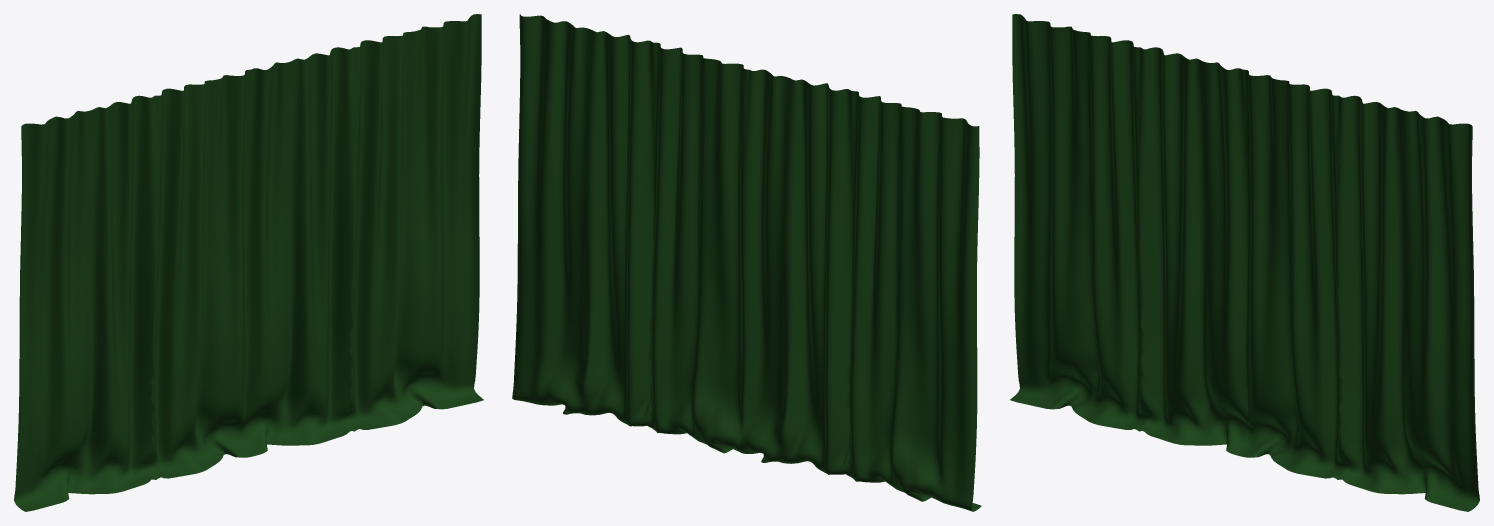
Rendered from Zaves_230x180_cm.fbx.
3 renders of one model, left to right at view 1: azimuth 30°, elevation 25°; view 2: azimuth 150°, elevation 25°; view 3: azimuth 330°, elevation 25°, orthographic.
Visible parts, largest first — view 1: zaves; view 2: zaves; view 3: zaves.
Part boxes in pixels (x1=…): zaves: x1=14, y1=14, x2=483, y2=511; zaves: x1=512, y1=14, x2=981, y2=511; zaves: x1=1010, y1=14, x2=1479, y2=511.
Bounding box in the file's own units: 230 × 184 × 16.99.
